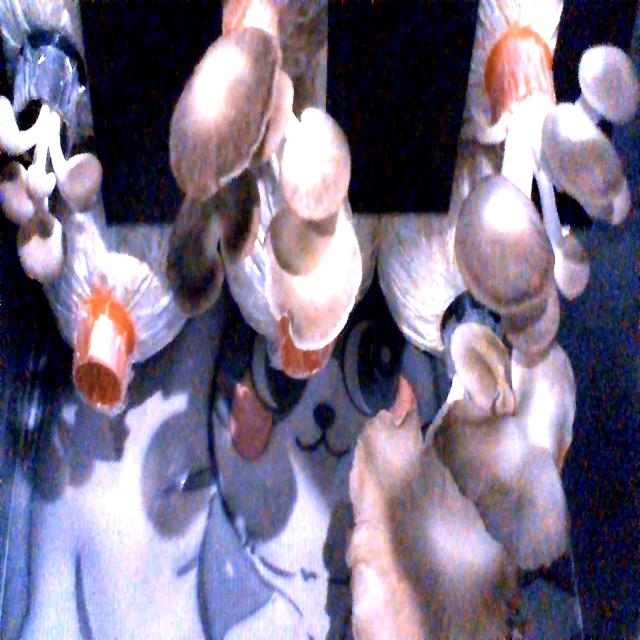big: (342, 354, 591, 640), (170, 22, 366, 354), (468, 55, 640, 344)
nfound: (67, 337, 142, 421)
small: (0, 90, 98, 294)
